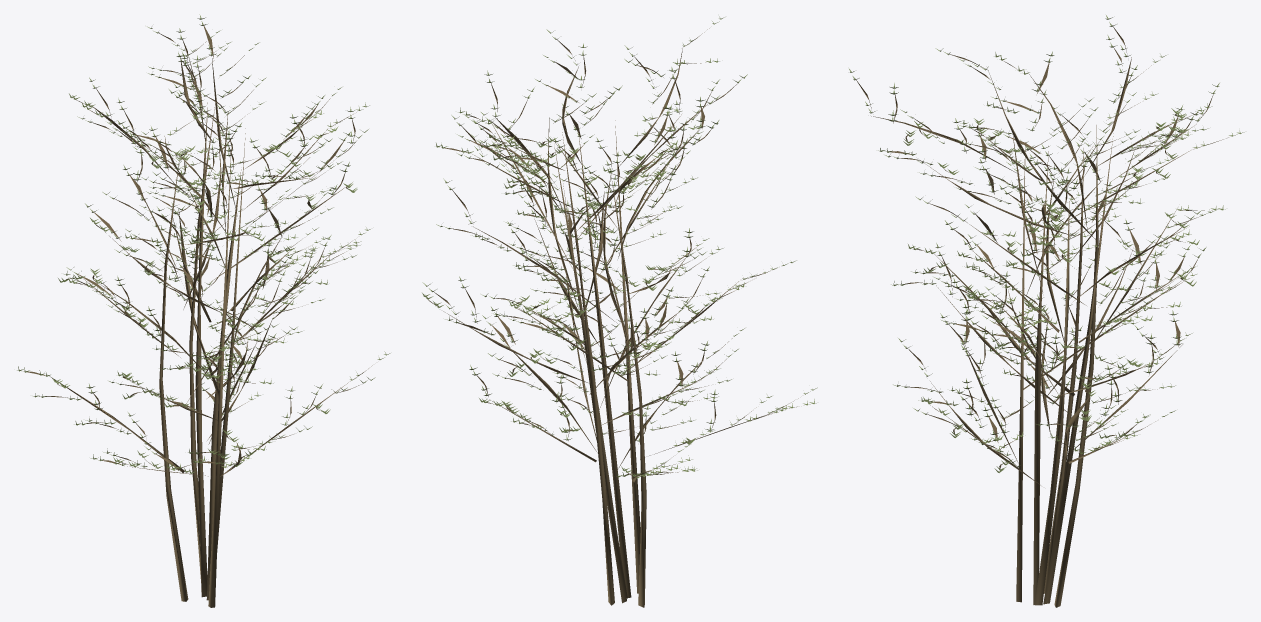
File: Bruyere_2_LOD2.fbx
3 renders of one model, left to right at view 1: azimuth 30°, elevation 25°; view 2: azimuth 150°, elevation 25°; view 3: azimuth 270°, elevation 25°, orthographic. The views are drawn at different scales.
Visible parts, largest first — view 1: Bruyere_2_LOD2; view 2: Bruyere_2_LOD2; view 3: Bruyere_2_LOD2.
Part boxes in pixels (left/top/right/bottom): Bruyere_2_LOD2: left=17, top=14, right=390, bottom=607; Bruyere_2_LOD2: left=422, top=16, right=817, bottom=607; Bruyere_2_LOD2: left=849, top=15, right=1244, bottom=607.
Size of the model in its own units: 246 by 374 by 252.
